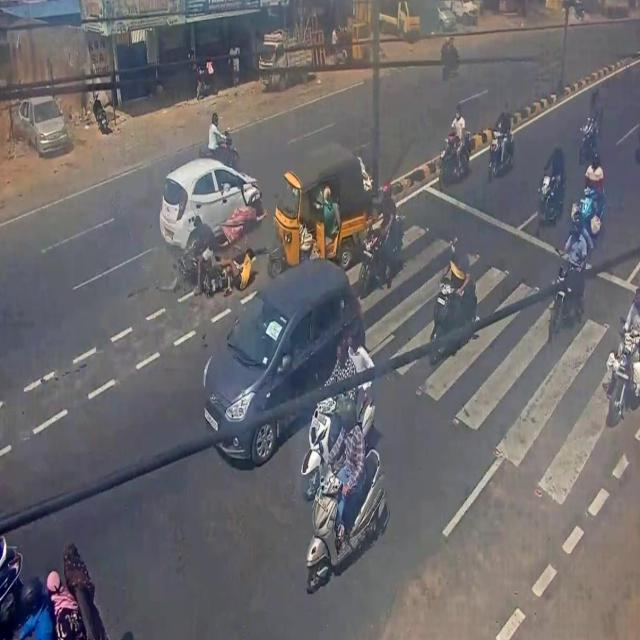accident: (154, 150, 262, 298)
non_accident: (202, 252, 394, 607)
